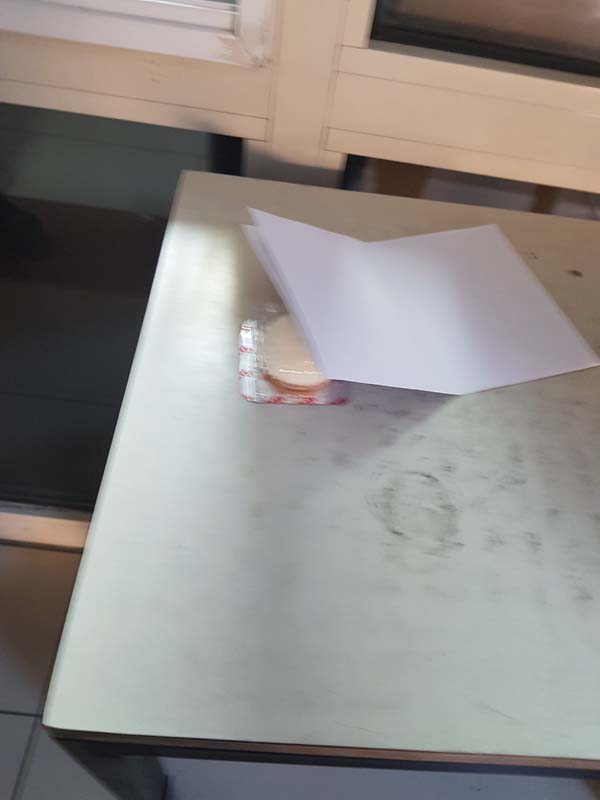etipuf: (229, 311, 345, 401)
